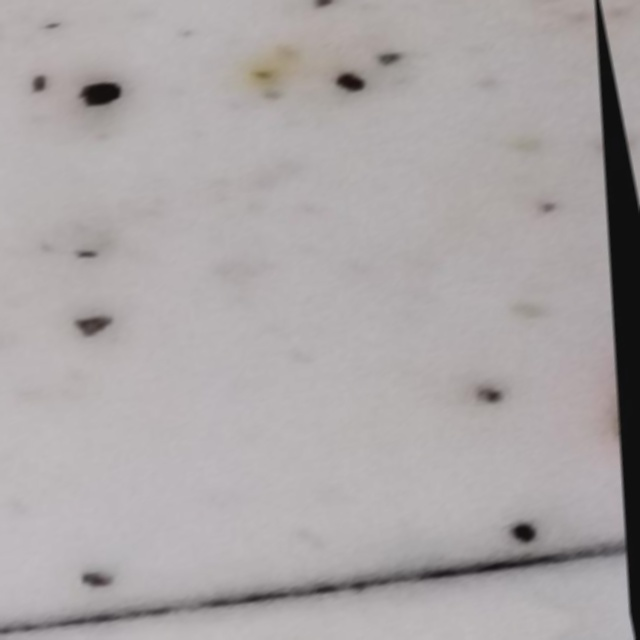varroa: (74, 78, 125, 113), (513, 525, 551, 551)
